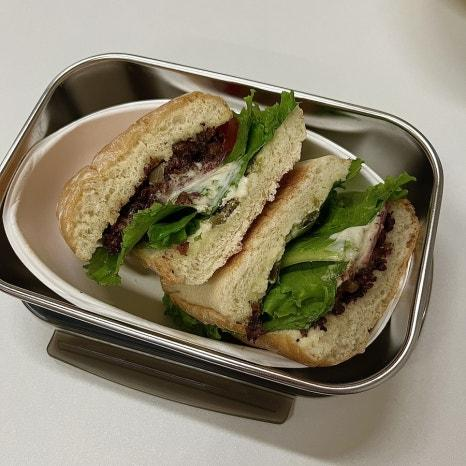Lunch Box: (0, 55, 442, 422)
